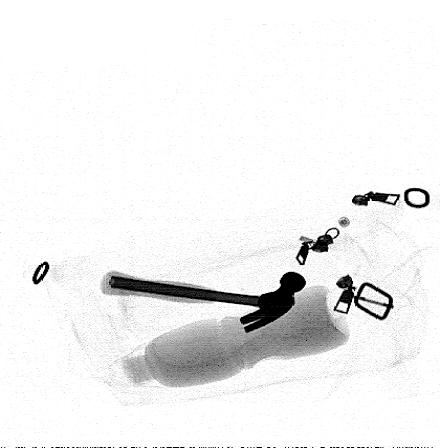Hammer: (99, 270, 306, 334)
